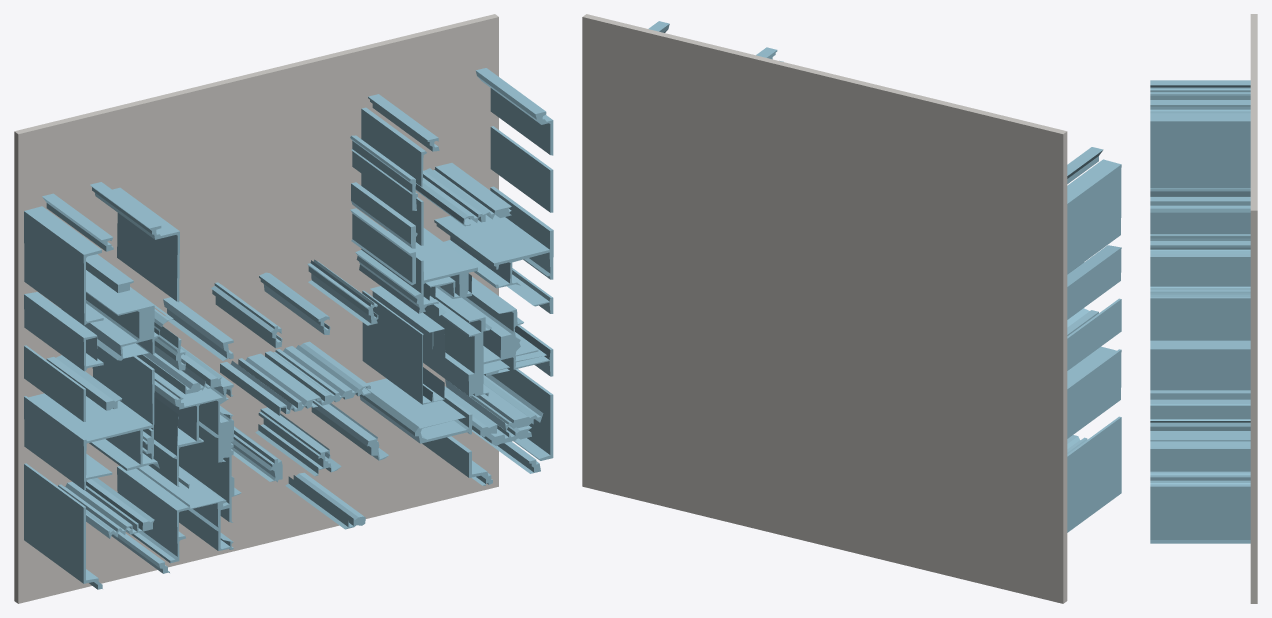
3 renders of one model, left to right at view 1: azimuth 30°, elevation 25°; view 2: azimuth 150°, elevation 25°; view 3: azimuth 270°, elevation 25°, orthographic. The views are drawn at different scales.
Parts seen in each view (by area): view 1: world; view 2: world; view 3: world.
Boxes of the visible parts, bbox=[...] form: world: bbox=[14, 14, 553, 603]; world: bbox=[582, 14, 1121, 603]; world: bbox=[1150, 14, 1257, 603].
Size of the model in its own units: 10.23 by 9.55 by 2.35.
